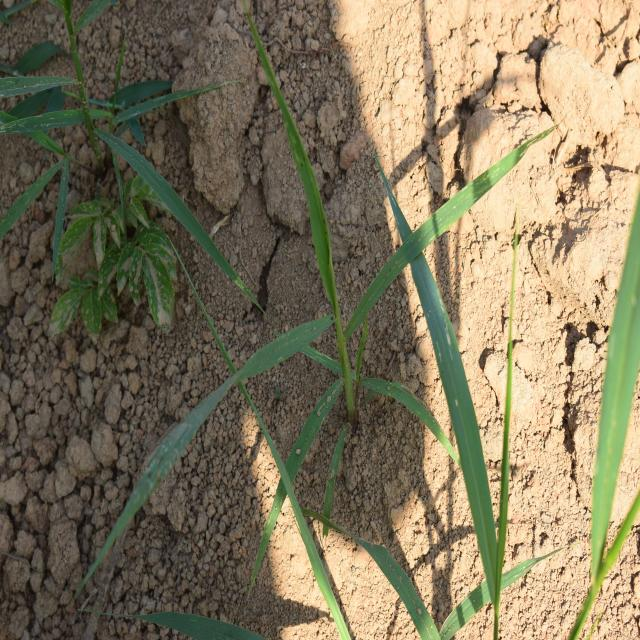green_foxtail: (400, 149, 630, 595), (215, 49, 452, 468)
